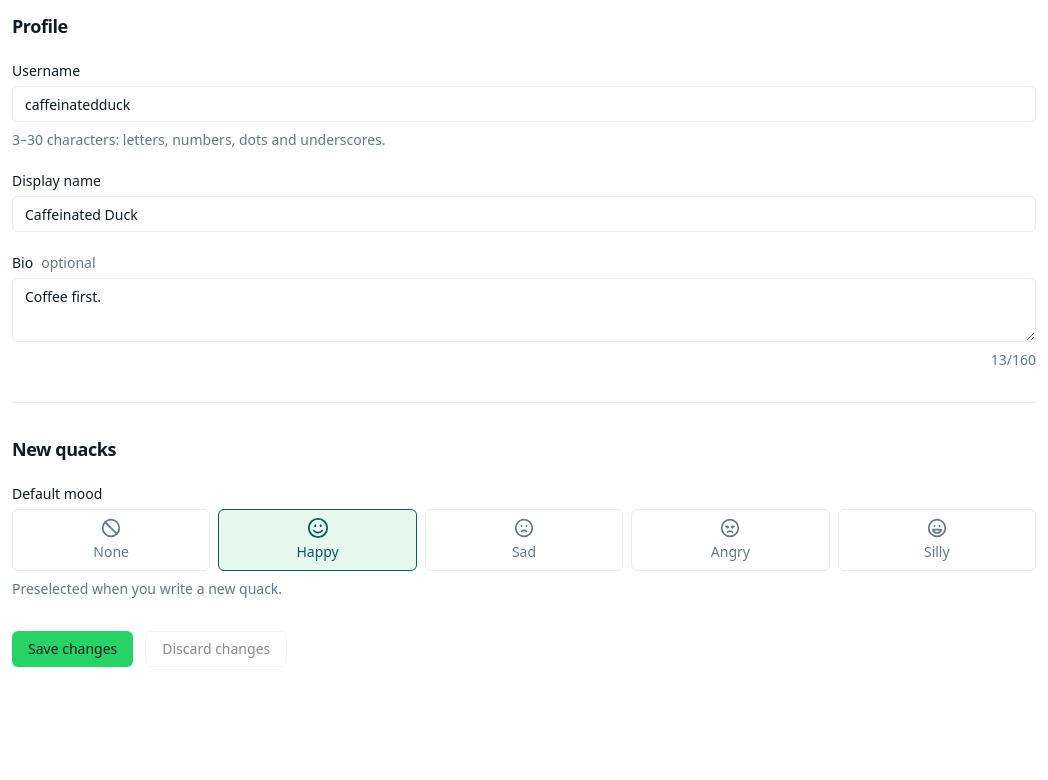
Scenario: SettingsForm › rejects the username no spaces before asking the server
This screenshot has width=1048, height=780.
Replace the text in the field labelled "Username" with "no spaces" at (524, 104), box [12, 86, 1036, 122]
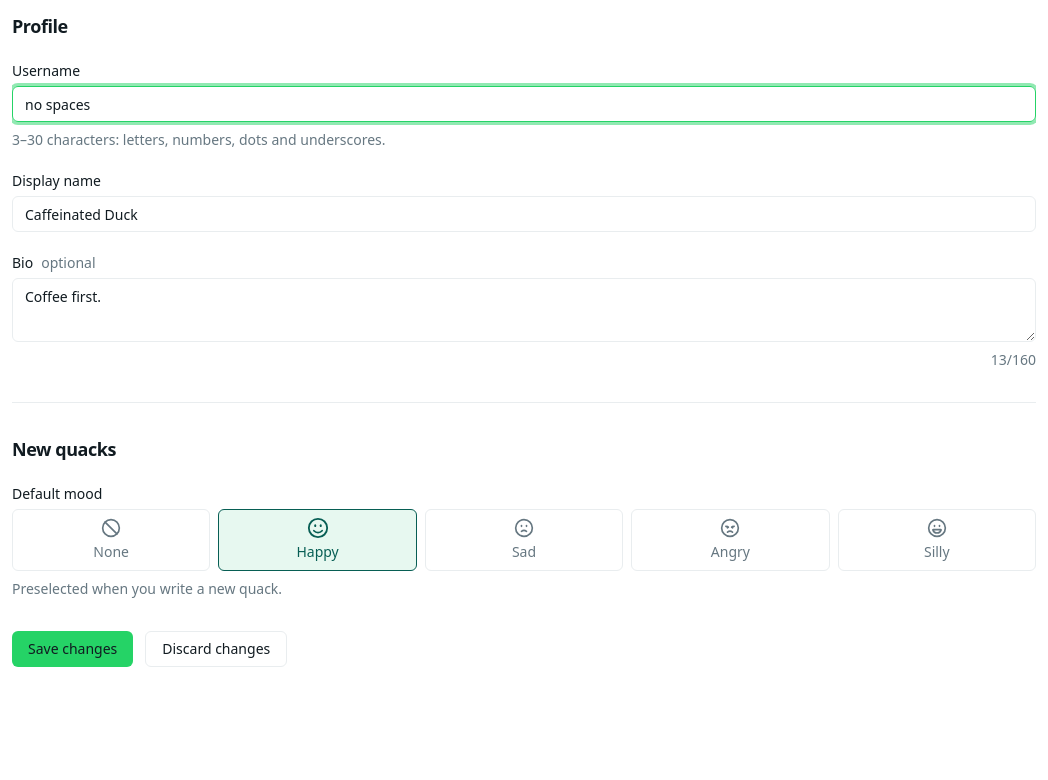
Click the button "Save changes" at (73, 649), box [12, 631, 133, 667]
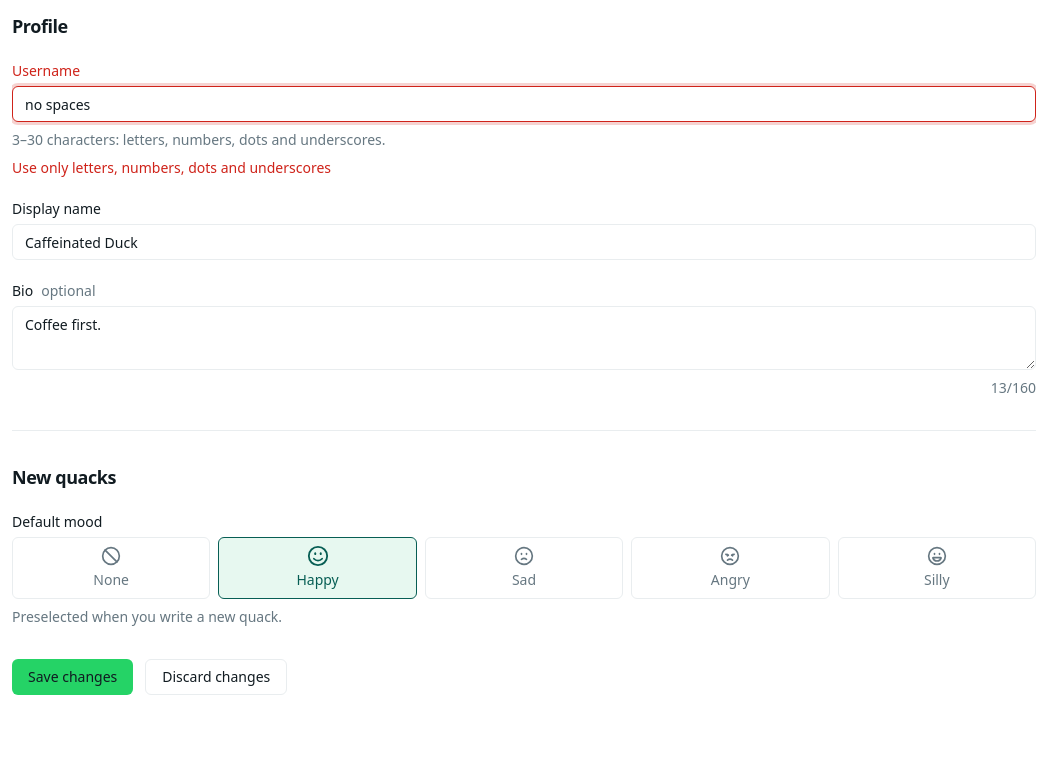
Now the text "Use only letters, numbers, dots and underscores" is shown, box [12, 158, 331, 177]
